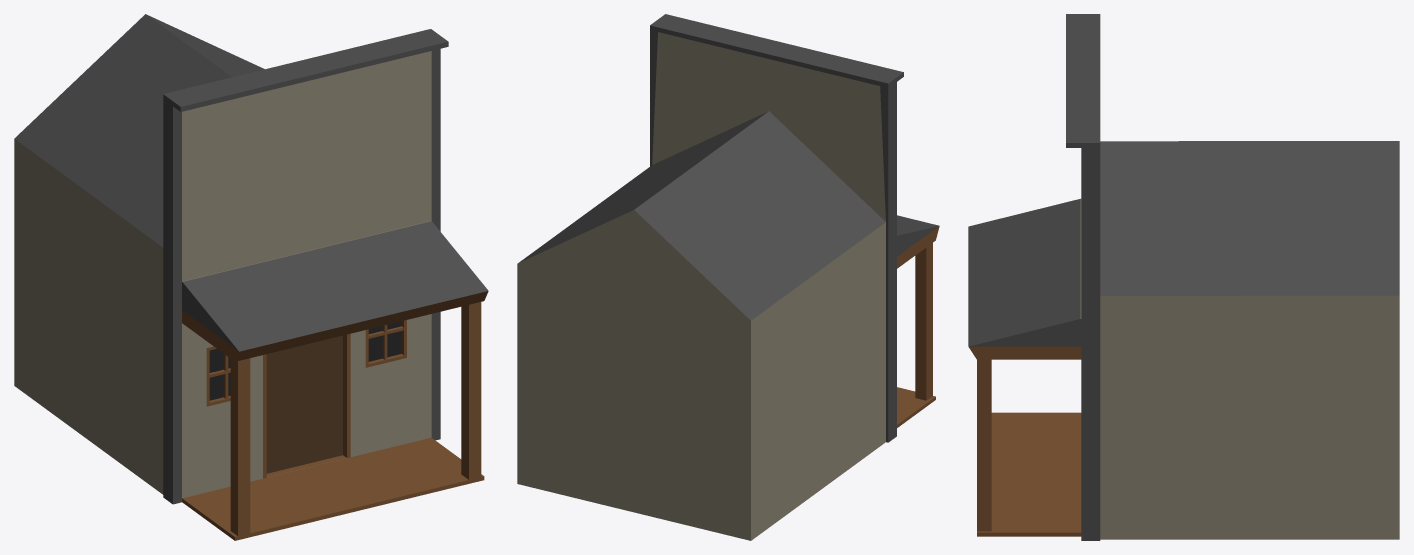
Rendered from store2.fbx.
The picture shows the model from 3 angles, left to right: view 1: azimuth 30°, elevation 25°; view 2: azimuth 150°, elevation 25°; view 3: azimuth 270°, elevation 25°; orthographic projection. The views are drawn at different scales.
Parts seen in each view (by area): view 1: Store2; view 2: Store2; view 3: Store2.
Boxes of the visible parts, left/top/right/bottom form: Store2: left=14, top=14, right=488, bottom=540; Store2: left=517, top=14, right=939, bottom=540; Store2: left=968, top=14, right=1399, bottom=540.
Bounding box in the file's own units: 204 × 294 × 288.
